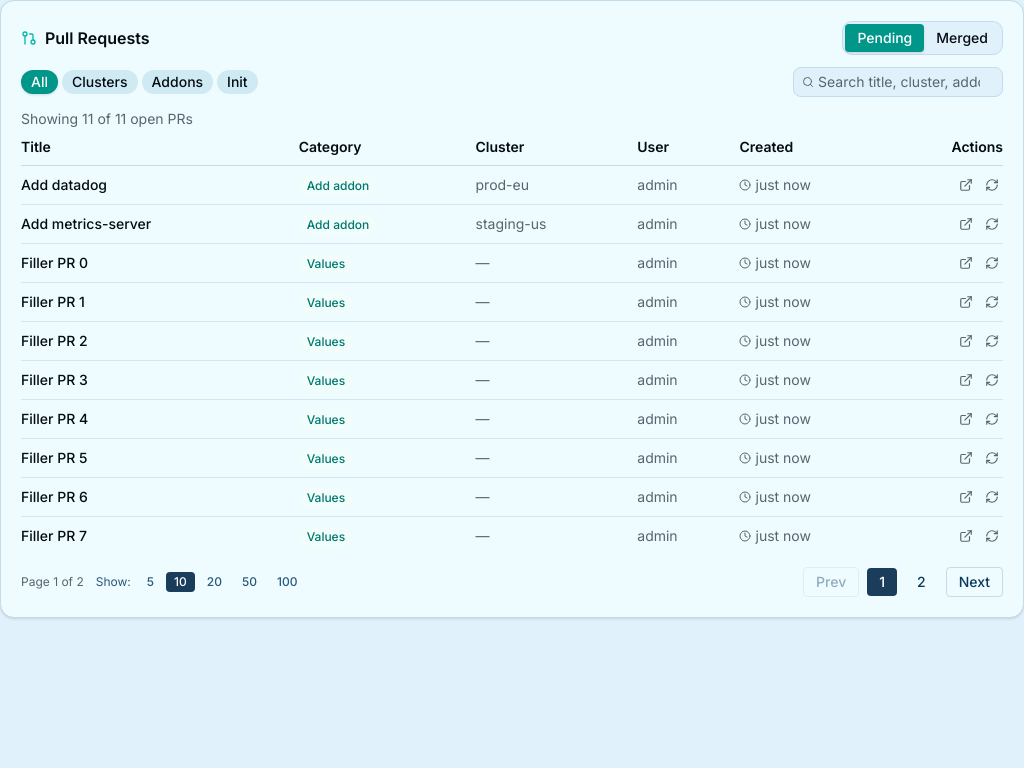
PullRequestsPanel V125-1-6 › search input filters rows in real time
expect the link "Add datadog" is shown: met, box x1=21 y1=176 x2=107 y2=193
expect the link "Add metrics-server" is shown: met, box x1=21 y1=215 x2=151 y2=232
In the search field named "Search PRs": (906, 82) x1=818 y1=70 x2=994 y2=94, type "metrics"
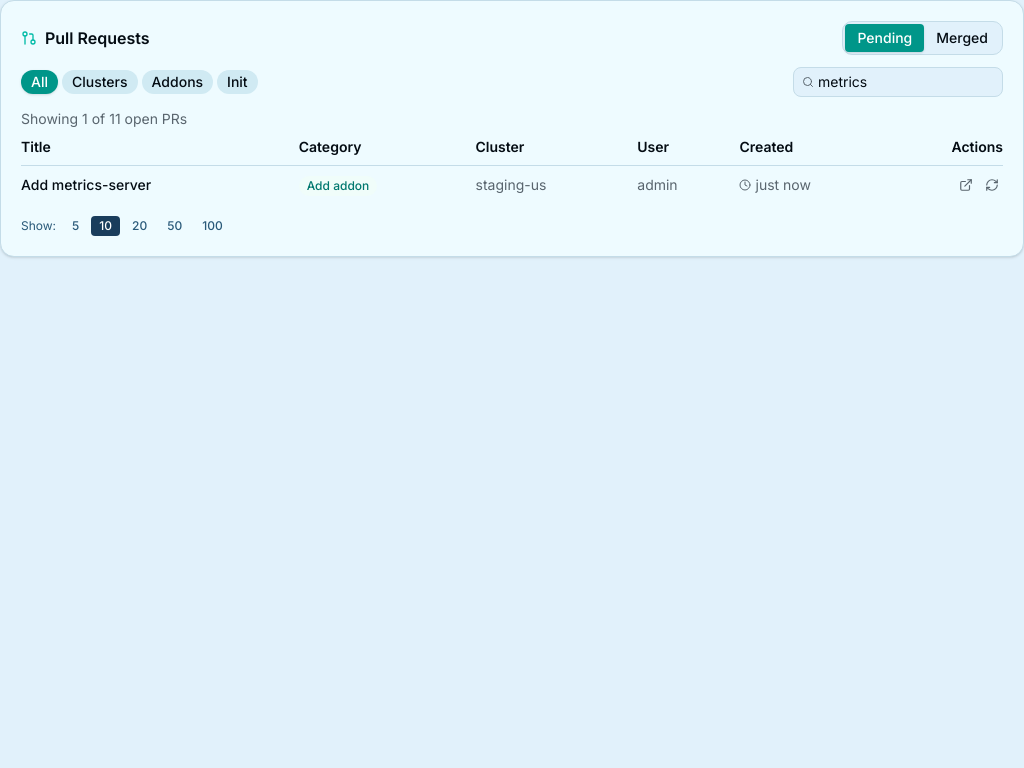
expect the link "Add metrics-server" is shown: met, box x1=21 y1=176 x2=151 y2=193
expect the link "Add datadog" is gone: met
